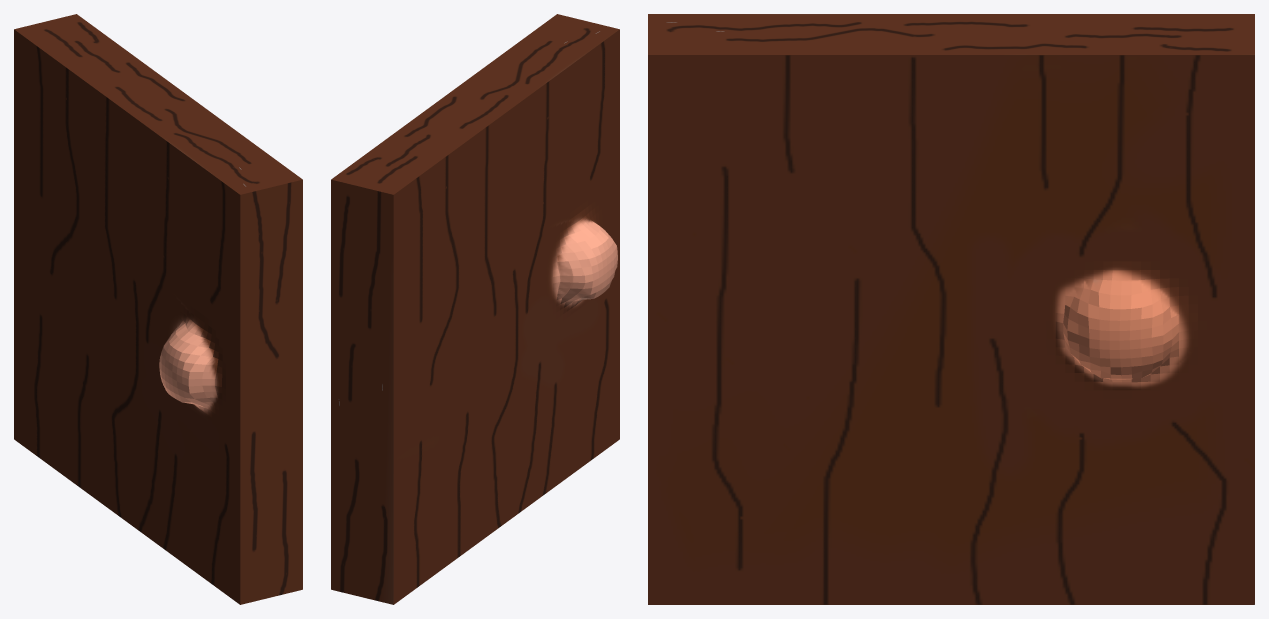
File: Door.fbx
3 views of the same model, side by side, from view 1: azimuth 30°, elevation 25°; view 2: azimuth 150°, elevation 25°; view 3: azimuth 270°, elevation 25° (orthographic). The views are drawn at different scales.
Parts seen in each view (by area): view 1: Cube; view 2: Cube; view 3: Cube.
Boxes of the visible parts, x1,y1,x2,y2 form: Cube: (14,14,302,604); Cube: (331,14,619,604); Cube: (648,14,1254,604).
Size of the model in its own units: 62.24 by 200 by 200.
